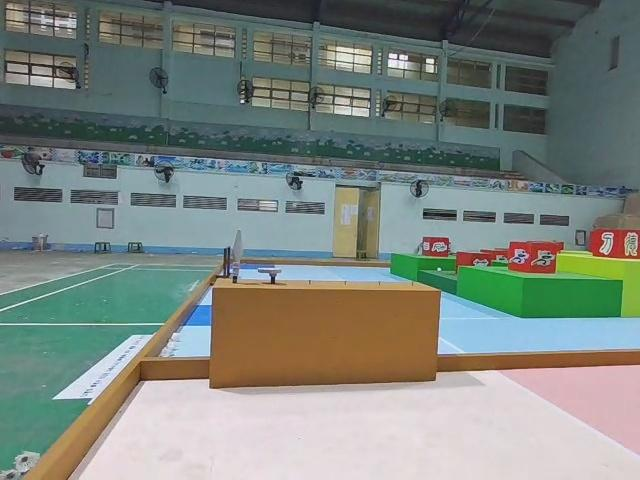Hand: (257, 266, 285, 286)
Sph: (229, 229, 245, 286)
